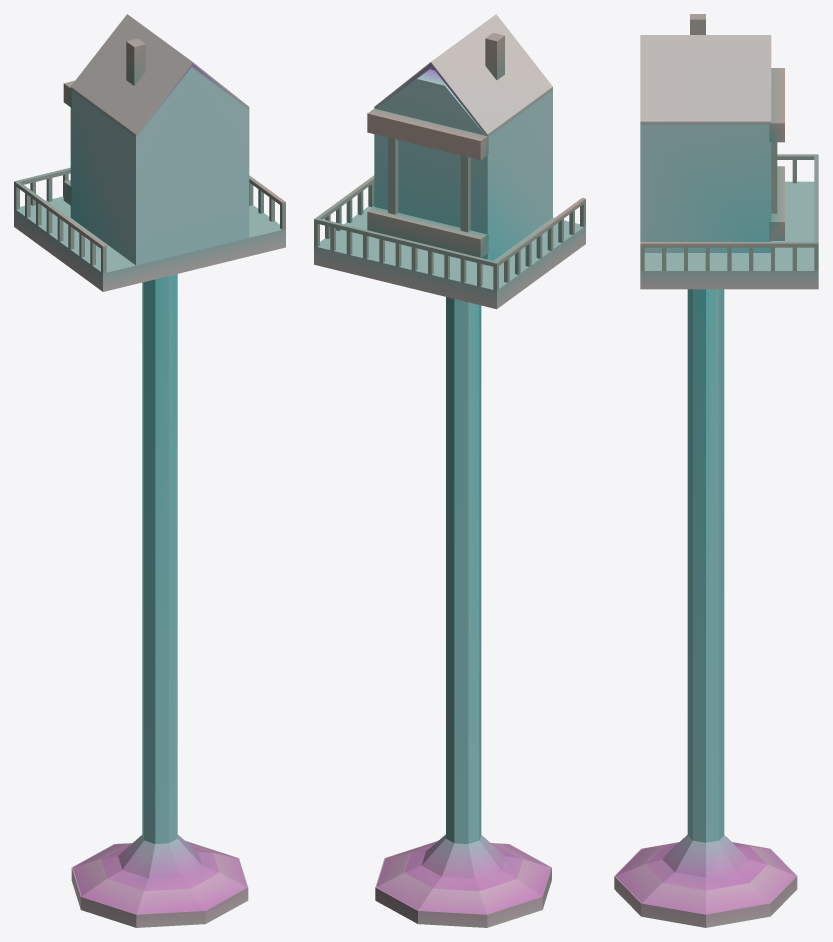
3 renders of one model, left to right at view 1: azimuth 30°, elevation 25°; view 2: azimuth 150°, elevation 25°; view 3: azimuth 270°, elevation 25°, orthographic.
Parts seen in each view (by area): view 1: house, post, rim, deck, roof_skin, ridge_projection, side_rail; view 2: post, house, rim, deck, roof_skin, lintel, sill, front_rail, stile.001, stile.002, ridge_projection, side_rail; view 3: post, house, rim, roof_skin, deck, lintel, side_rail.001, sill, stile.002, front_rail.
Part boxes in pixels (x1,y1,x2,y2): house: [70, 67, 249, 265]; post: [142, 274, 177, 843]; rim: [71, 834, 248, 927]; deck: [14, 196, 285, 291]; roof_skin: [70, 14, 249, 137]; ridge_projection: [126, 38, 145, 85]; side_rail: [14, 181, 106, 250]; post: [446, 297, 481, 843]; house: [374, 67, 552, 265]; rim: [375, 834, 551, 927]; deck: [314, 206, 585, 309]; roof_skin: [374, 14, 552, 136]; lintel: [367, 108, 488, 159]; sill: [367, 207, 488, 257]; front_rail: [314, 217, 498, 267]; stile.001: [460, 155, 470, 232]; stile.002: [388, 137, 398, 214]; ridge_projection: [485, 33, 504, 79]; side_rail: [496, 197, 585, 266]; post: [687, 289, 724, 842]; house: [640, 125, 771, 252]; rim: [614, 835, 797, 927]; roof_skin: [640, 35, 771, 124]; deck: [640, 181, 818, 289]; lintel: [769, 68, 784, 142]; side_rail.001: [640, 242, 818, 247]; sill: [769, 166, 784, 240]; stile.002: [771, 142, 777, 213]; front_rail: [814, 154, 818, 243].
Bounding box in the file's own units: 0.403 × 1.81 × 0.3895.
